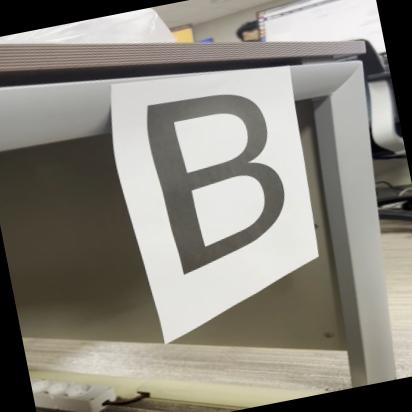seat: (126, 66, 316, 304)
